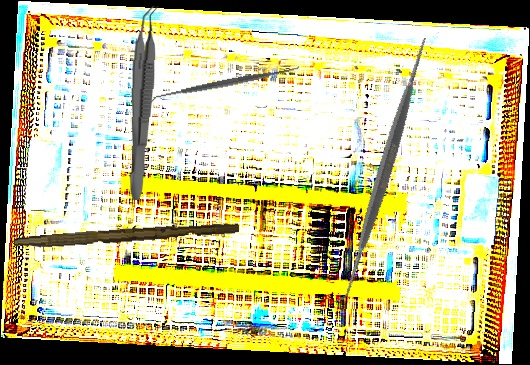Scalpel Handle: (13, 218, 240, 254)
Spatula Surgical: (249, 32, 521, 304), (148, 60, 302, 107)
Tissue Forceps: (127, 5, 161, 201)
